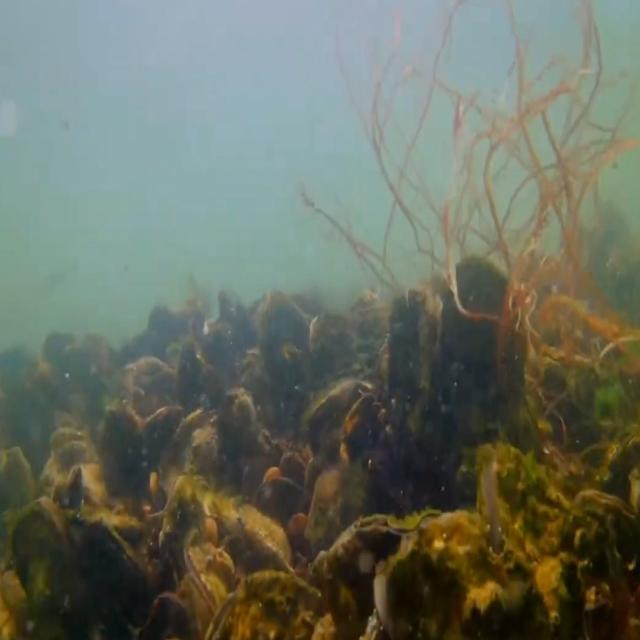Oyster-Closed: (308, 507, 441, 640), (560, 483, 640, 640), (78, 517, 165, 640), (157, 474, 215, 586), (182, 546, 226, 640), (60, 466, 86, 512)
Oyster-Indeterminate: (373, 510, 552, 640), (440, 255, 528, 448), (10, 497, 80, 640), (388, 287, 446, 447), (304, 462, 373, 563), (99, 400, 148, 510), (0, 445, 37, 555), (235, 502, 294, 570)
Oyster-Open: (478, 444, 578, 640), (304, 377, 376, 465), (168, 407, 220, 473)
